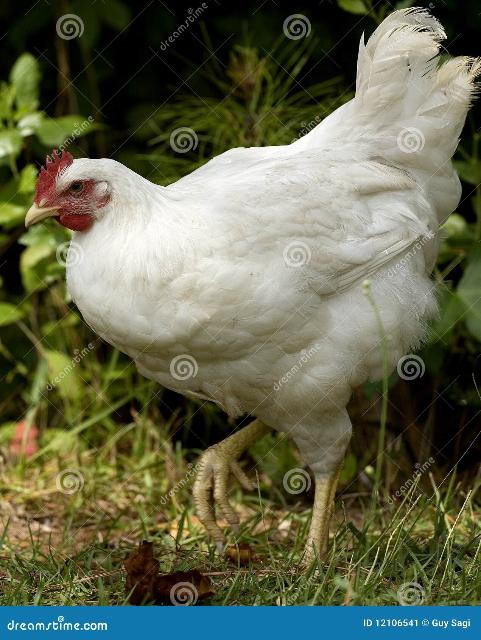Chicken: (23, 9, 481, 558)
